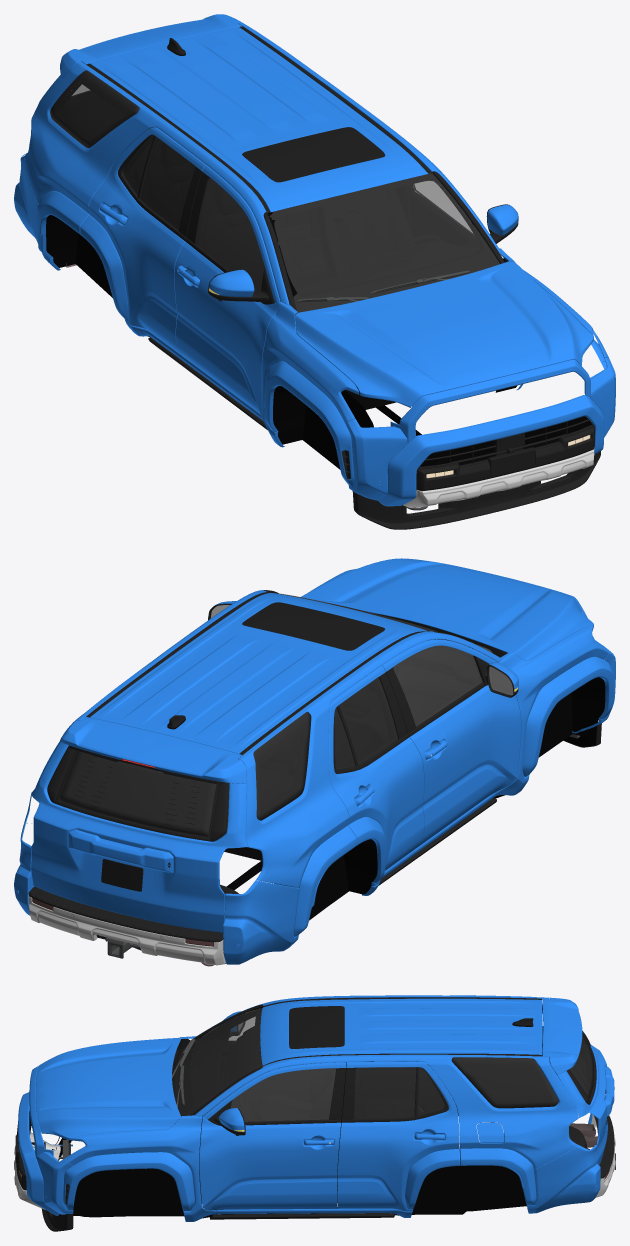
The model's file is rav4_2024_limited_decoded.glb.
The picture shows the model from 3 angles, top to bottom: view 1: azimuth 30°, elevation 25°; view 2: azimuth 150°, elevation 25°; view 3: azimuth 270°, elevation 25°; orthographic projection. The views are drawn at different scales.
Visible parts, largest first — view 1: BODY; view 2: BODY; view 3: BODY.
Part boxes in pixels (bbox=[...]): BODY: bbox=[14, 14, 615, 529]; BODY: bbox=[14, 558, 615, 966]; BODY: bbox=[14, 995, 615, 1231].
Size of the model in its own units: 2.19 by 1.61 by 4.95.
Materials: 10 (3 with a texture image).
